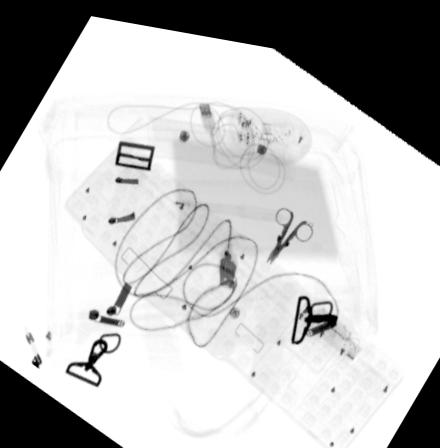Scissors: (264, 197, 313, 254)
